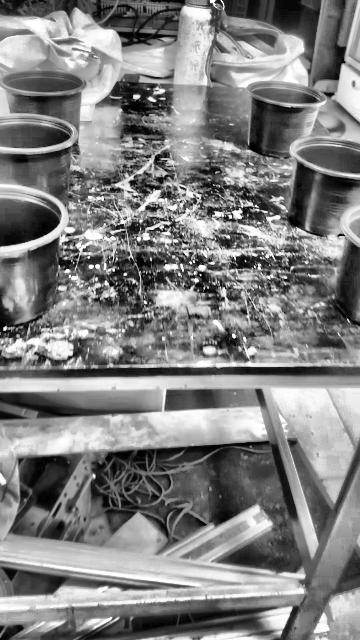pot: (0, 188, 65, 325), (0, 113, 77, 206), (289, 138, 360, 238), (247, 82, 325, 158), (0, 71, 86, 133), (337, 227, 359, 324), (101, 504, 137, 536)
